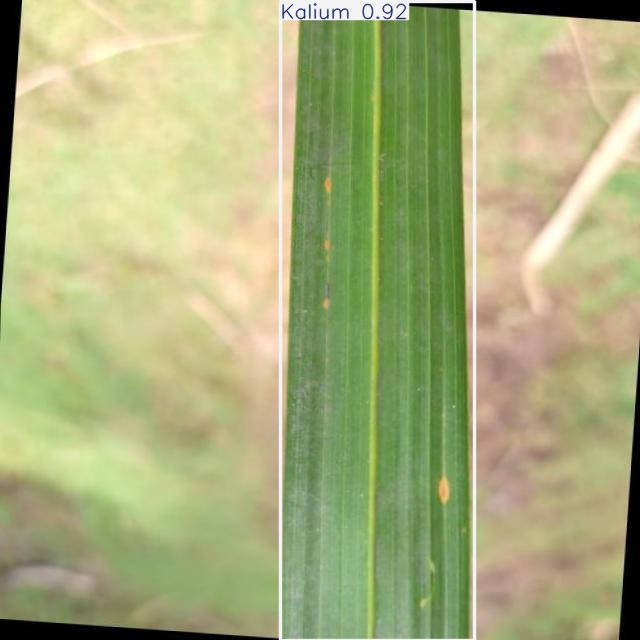Kalium: (280, 1, 475, 640)
